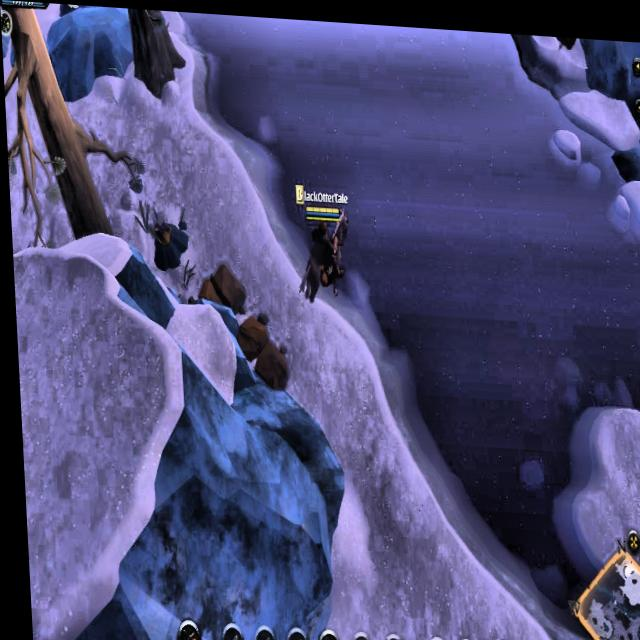copperore: (147, 209, 187, 268), (0, 8, 13, 61)
limestone: (231, 302, 286, 393), (192, 256, 243, 314)
